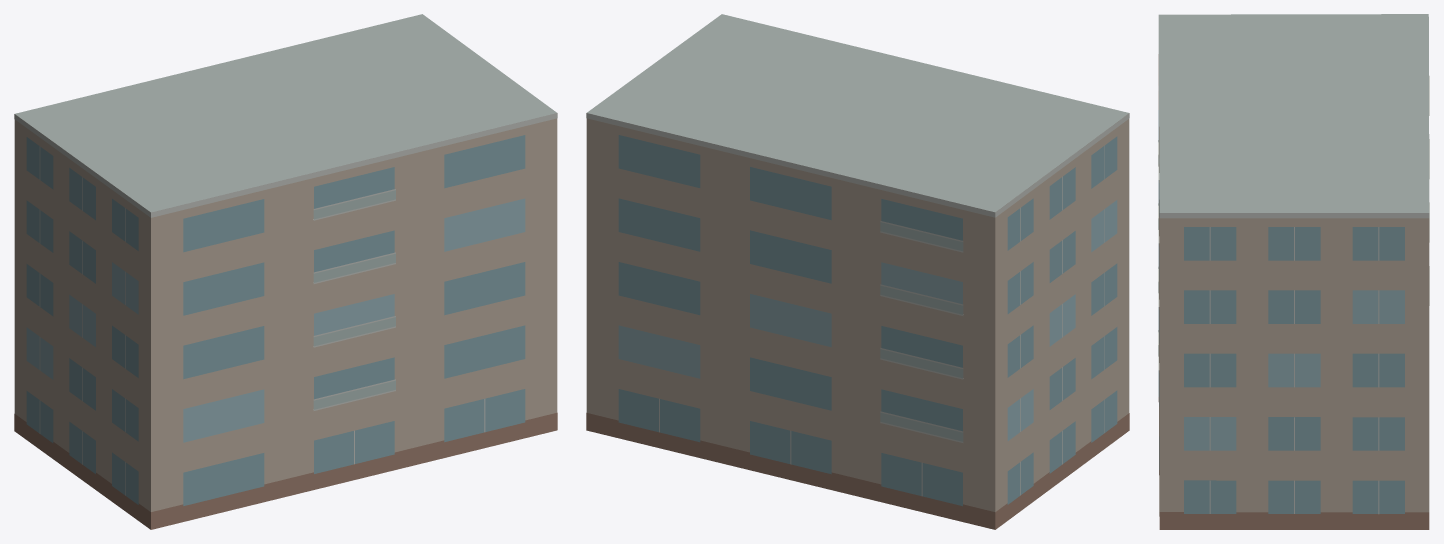
The model's file is survey-upis-32538435.glb.
3 views of the same model, side by side, from view 1: azimuth 30°, elevation 25°; view 2: azimuth 150°, elevation 25°; view 3: azimuth 270°, elevation 25° (orthographic).
Visible parts, largest first — view 1: survey-upis-32538435.tmp; view 2: survey-upis-32538435.tmp; view 3: survey-upis-32538435.tmp.
Part boxes in pixels (x1,y1,x2,y2): survey-upis-32538435.tmp: (14,14,557,529); survey-upis-32538435.tmp: (586,14,1129,529); survey-upis-32538435.tmp: (1158,14,1429,529).
Bounding box in the file's own units: 19.54 × 14.5 × 11.27.
